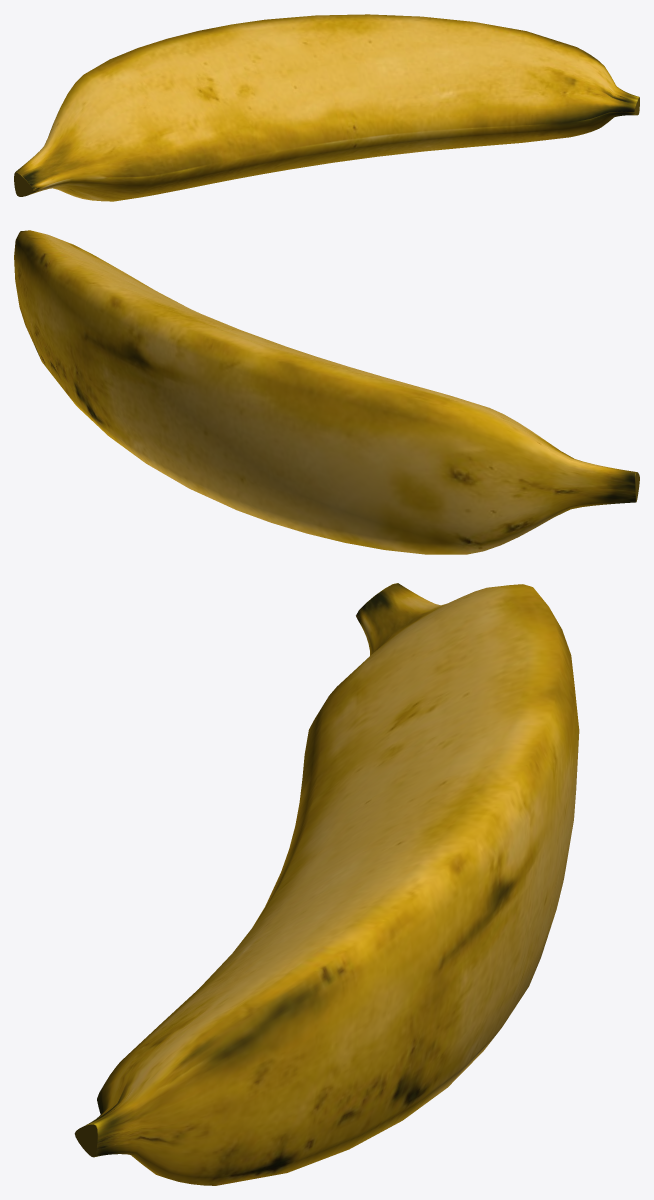
File: banana.fbx
3 views of the same model, one above another, from view 1: azimuth 30°, elevation 25°; view 2: azimuth 150°, elevation 25°; view 3: azimuth 270°, elevation 25° (orthographic). The views are drawn at different scales.
Parts seen in each view (by area): view 1: 放样01; view 2: 放样01; view 3: 放样01.
Part boxes in pixels (x1,y1,x2,y2): 放样01: [14, 14, 639, 201]; 放样01: [14, 230, 639, 554]; 放样01: [74, 583, 579, 1185].
Bounding box in the file's own units: 5.79 × 1.37 × 2.3.
Materials: 1 (1 with a texture image).
